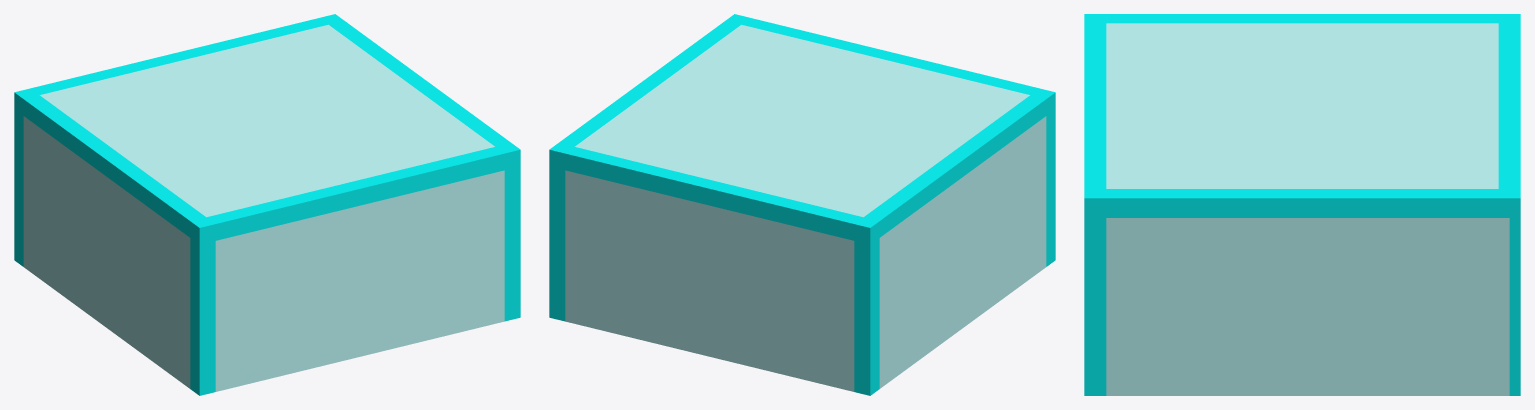
Rendered from ice.obj.
3 renders of one model, left to right at view 1: azimuth 30°, elevation 25°; view 2: azimuth 150°, elevation 25°; view 3: azimuth 270°, elevation 25°, orthographic. The views are drawn at different scales.
Bounding box in the file's own units: 4 × 2 × 4.
Materials: 1 (1 with a texture image).
